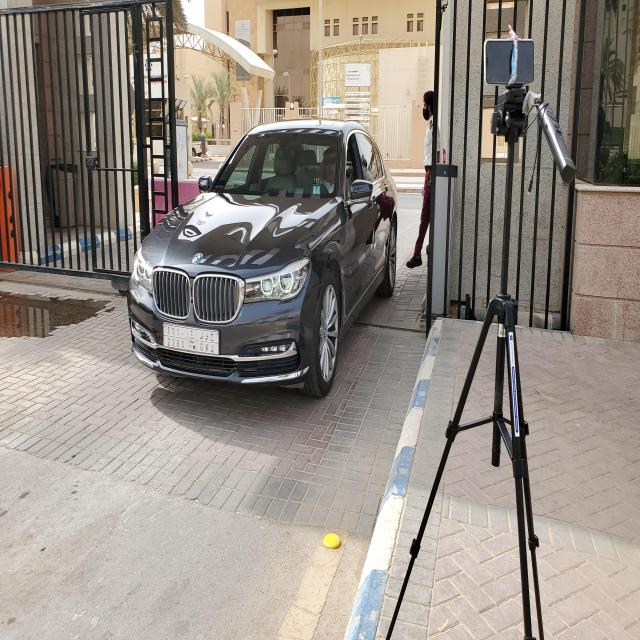license_plate: (162, 322, 220, 356)
